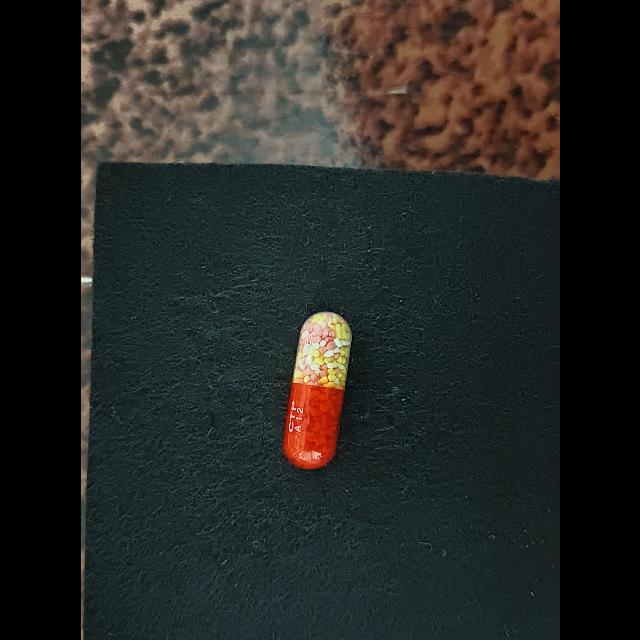Intact Capsule: (282, 311, 351, 469)
